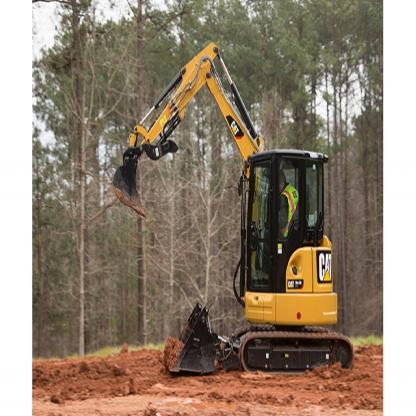excavator: (108, 29, 354, 385)
